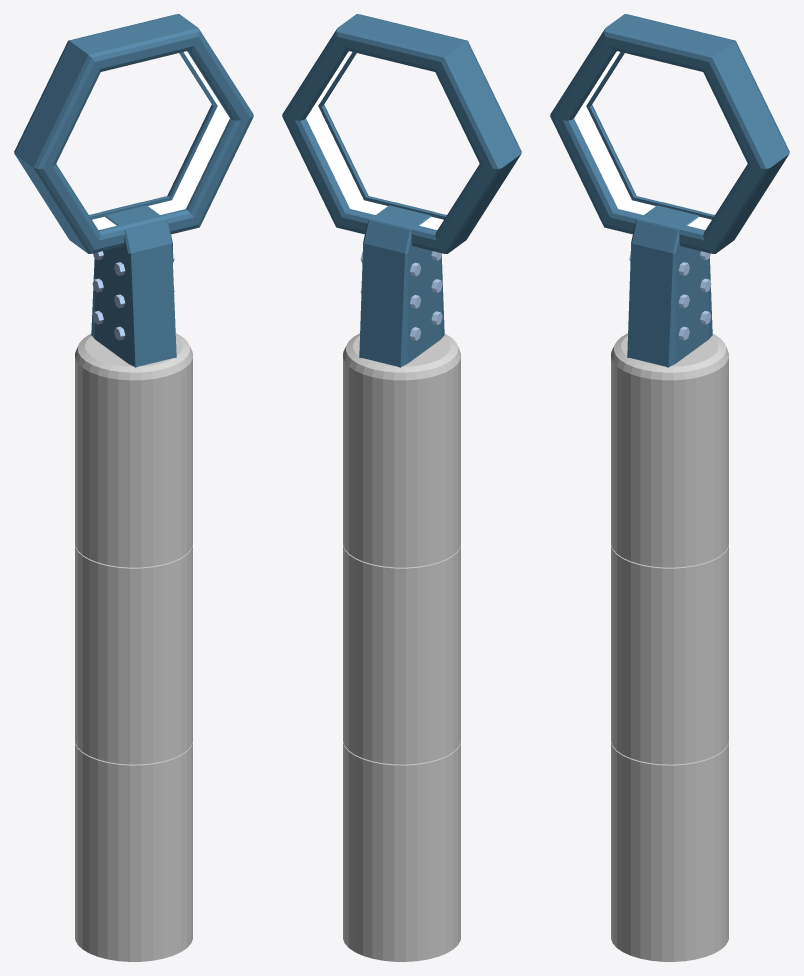
Rendered from Magnetic-Railpost.fbx.
3 renders of one model, left to right at view 1: azimuth 30°, elevation 25°; view 2: azimuth 150°, elevation 25°; view 3: azimuth 330°, elevation 25°, orthographic.
Visible parts, largest first — view 1: Magnetic-Rail-Post, Cylinder.002, Cube; view 2: Magnetic-Rail-Post, Cylinder.002, Cube; view 3: Magnetic-Rail-Post, Cylinder.002, Cube.
Part boxes in pixels (<box>): Magnetic-Rail-Post: <box>75,333,192,961</box>; Cylinder.002: <box>14,14,253,253</box>; Cube: <box>91,202,176,367</box>; Magnetic-Rail-Post: <box>343,333,460,961</box>; Cylinder.002: <box>282,14,521,253</box>; Cube: <box>359,202,444,367</box>; Magnetic-Rail-Post: <box>611,333,728,961</box>; Cylinder.002: <box>550,14,789,253</box>; Cube: <box>627,202,712,367</box>.
Bounding box in the file's own units: 429 × 1681 × 200.
